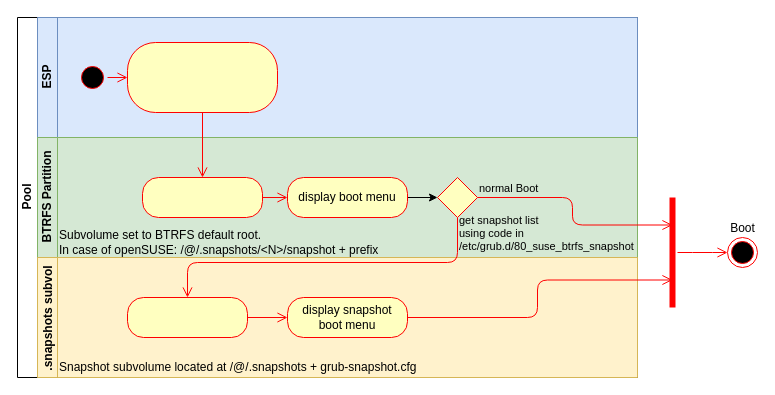
Some shapes in this 775 by 395 pixel diagram are drawn without their labels. The centre of each missing label's shape, as x and y in pixels:
"load grub-snapshot.cfg" belongs at pixel 187 317.
"load grub.cfg (from /boot/grub2)" belongs at pixel 202 197.
"load grub.cfg set prefix to /boot/grub2 set root to UUID of btrfs" belongs at pixel 202 77.
"Power on" belongs at pixel 92 77.
